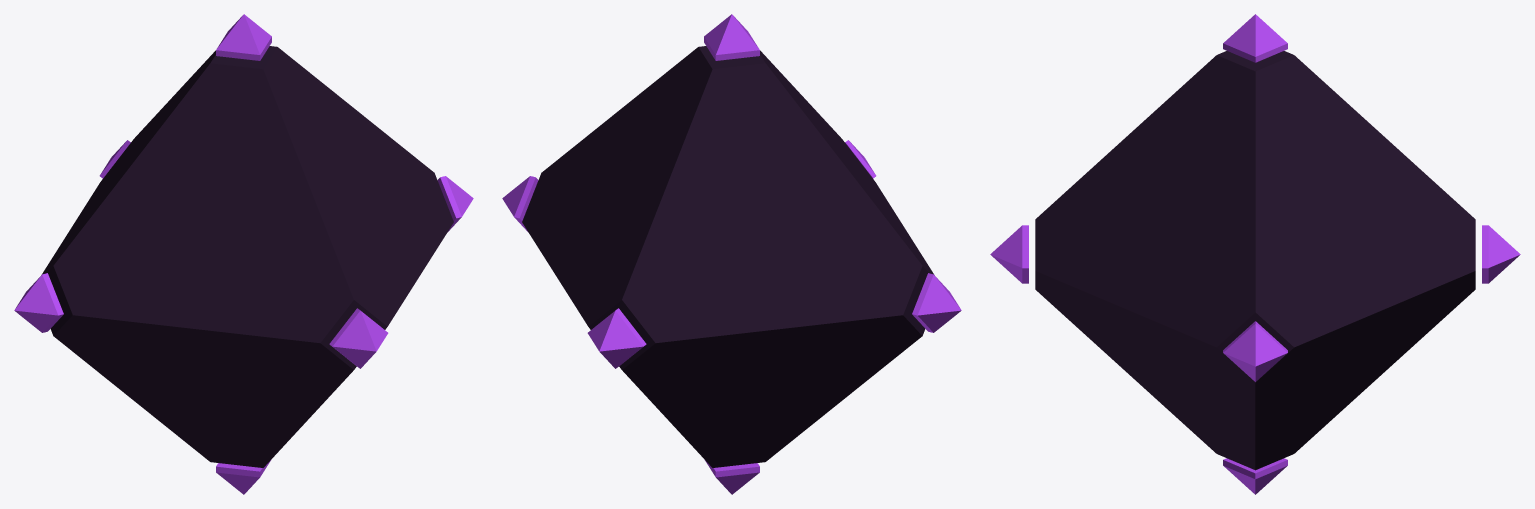
The picture shows the model from 3 angles, left to right: view 1: azimuth 30°, elevation 25°; view 2: azimuth 150°, elevation 25°; view 3: azimuth 270°, elevation 25°; orthographic projection.
Visible parts, largest first — view 1: Pyramid, Cap1, Cap3, CapU, CapD, Cap4; view 2: Pyramid, Cap2, Cap3, CapU, CapD, Cap4; view 3: Pyramid, Cap4, CapU, Cap2, Cap1, CapD.
Part boxes in pixels (bbox=[...]): Pyramid: bbox=[41, 46, 453, 467]; Cap1: bbox=[329, 308, 388, 368]; Cap3: bbox=[14, 273, 63, 332]; CapU: bbox=[216, 14, 271, 60]; CapD: bbox=[216, 459, 271, 494]; Cap4: bbox=[437, 176, 473, 232]; Pyramid: bbox=[522, 46, 934, 467]; Cap2: bbox=[587, 308, 646, 368]; Cap3: bbox=[912, 273, 961, 332]; CapU: bbox=[704, 14, 759, 60]; CapD: bbox=[704, 459, 759, 494]; Cap4: bbox=[502, 176, 538, 232]; Pyramid: bbox=[1035, 51, 1475, 470]; Cap4: bbox=[1223, 321, 1287, 381]; CapU: bbox=[1223, 14, 1287, 62]; Cap2: bbox=[1482, 225, 1520, 283]; Cap1: bbox=[990, 225, 1028, 283]; CapD: bbox=[1223, 458, 1287, 494].
Size of the model in its own units: 3280 by 3280 by 3280.
3 materials, 3 textured.
